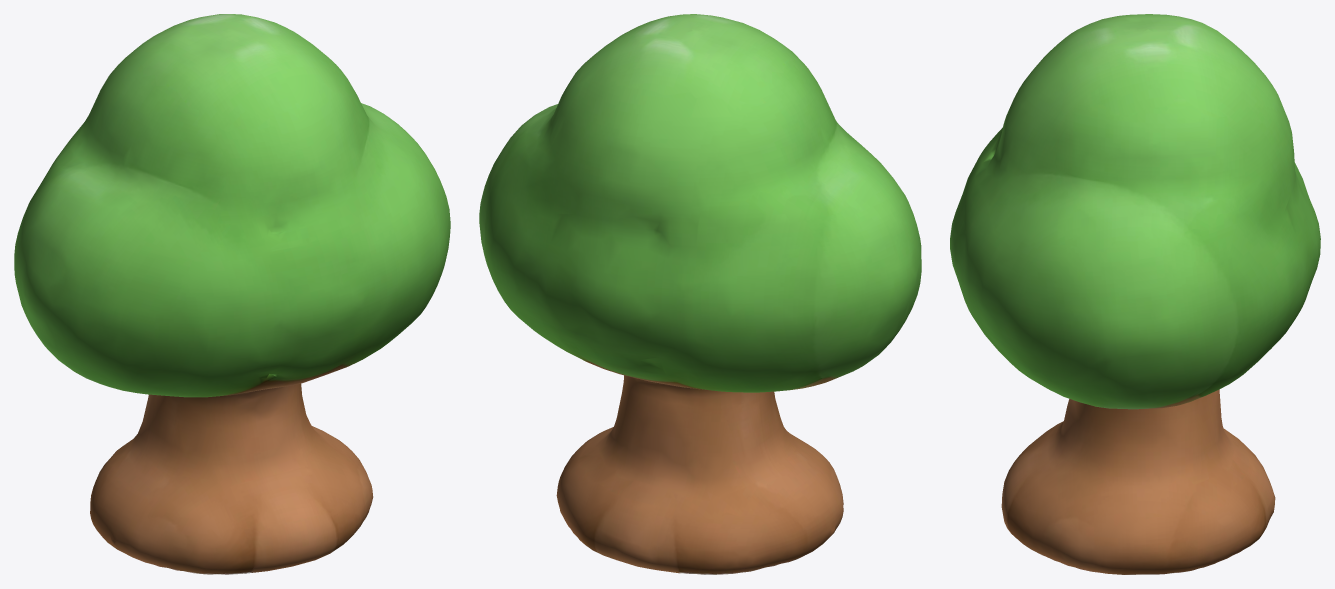
File: tree.glb
The picture shows the model from 3 angles, left to right: view 1: azimuth 30°, elevation 25°; view 2: azimuth 150°, elevation 25°; view 3: azimuth 270°, elevation 25°; orthographic projection.
Visible parts, largest first — view 1: prop; view 2: prop; view 3: prop.
Part boxes in pixels (<box>): prop: <box>14,14,450,574</box>; prop: <box>479,14,921,574</box>; prop: <box>950,14,1320,574</box>.
Bounding box in the file's own units: 2.43 × 2.87 × 1.93.
1 material, 1 textured.
